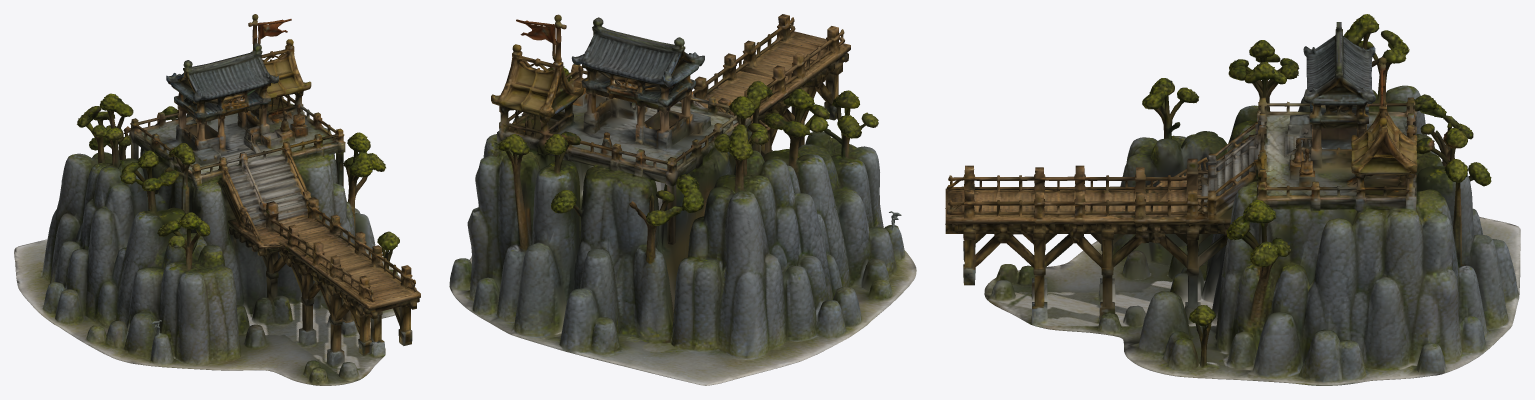
The model's file is QinlingPlankRoad.glb.
3 views of the same model, side by side, from view 1: azimuth 30°, elevation 25°; view 2: azimuth 150°, elevation 25°; view 3: azimuth 270°, elevation 25° (orthographic). The views are drawn at different scales.
Visible parts, largest first — view 1: node_0; view 2: node_0; view 3: node_0.
Part boxes in pixels (<box>): node_0: <box>14,14,420,385</box>; node_0: <box>449,14,916,385</box>; node_0: <box>945,14,1520,385</box>.
Size of the model in its own units: 0.7461 by 0.5147 by 0.9632.
1 material, 1 textured.
